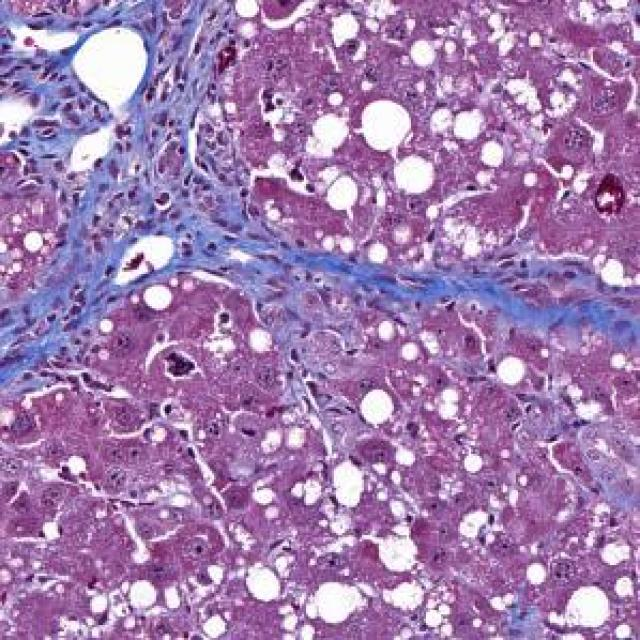fibrosis: (36, 126, 264, 289), (338, 253, 640, 366)
